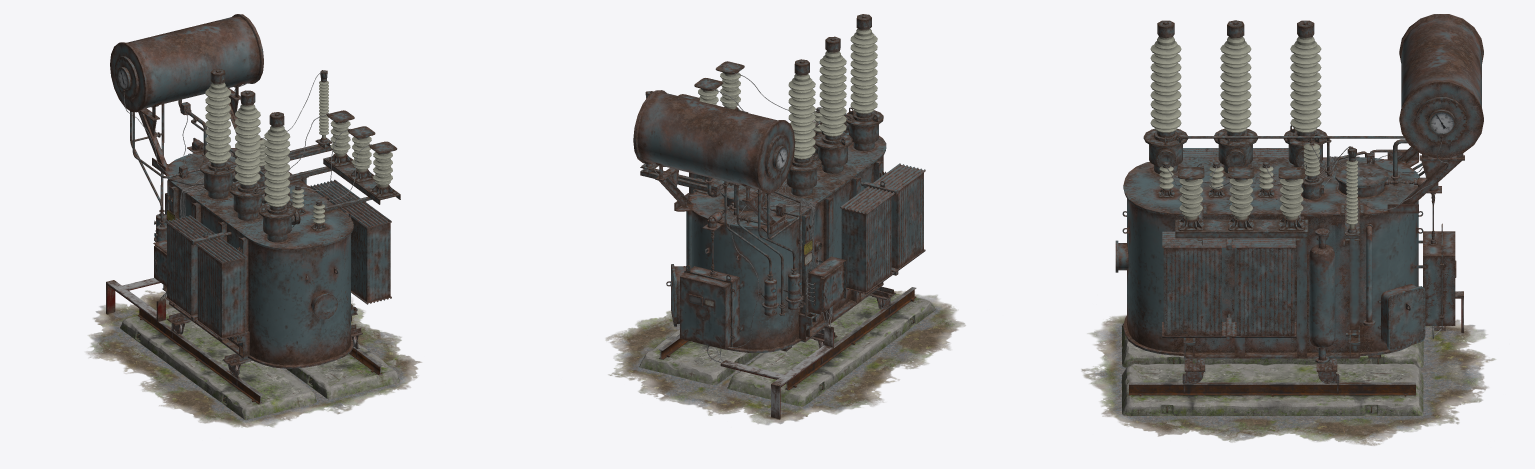
File: old_rusty_transformer_remade.glb
The picture shows the model from 3 angles, left to right: view 1: azimuth 30°, elevation 25°; view 2: azimuth 150°, elevation 25°; view 3: azimuth 270°, elevation 25°; orthographic projection. The views are drawn at different scales.
Visible parts, largest first — view 1: Body_Body_0, Details_Details_0, Voltage_Voltage_0, Ground_Ground_0; view 2: Details_Details_0, Body_Body_0, Voltage_Voltage_0, Ground_Ground_0; view 3: Details_Details_0, Body_Body_0, Voltage_Voltage_0, Ground_Ground_0.
Boxes of the visible parts, <box> form: Body_Body_0: <box>110,14,357,368</box>; Details_Details_0: <box>106,83,399,419</box>; Voltage_Voltage_0: <box>124,68,400,301</box>; Ground_Ground_0: <box>86,290,421,427</box>; Details_Details_0: <box>639,163,935,419</box>; Body_Body_0: <box>633,90,886,352</box>; Voltage_Voltage_0: <box>640,14,883,362</box>; Ground_Ground_0: <box>606,291,965,424</box>; Details_Details_0: <box>1121,146,1464,415</box>; Body_Body_0: <box>1115,14,1483,358</box>; Voltage_Voltage_0: <box>1143,20,1448,338</box>; Ground_Ground_0: <box>1081,315,1495,445</box>.
Size of the model in its own units: 2.14 by 2.01 by 2.52.
Materials: 4 (4 with a texture image).
